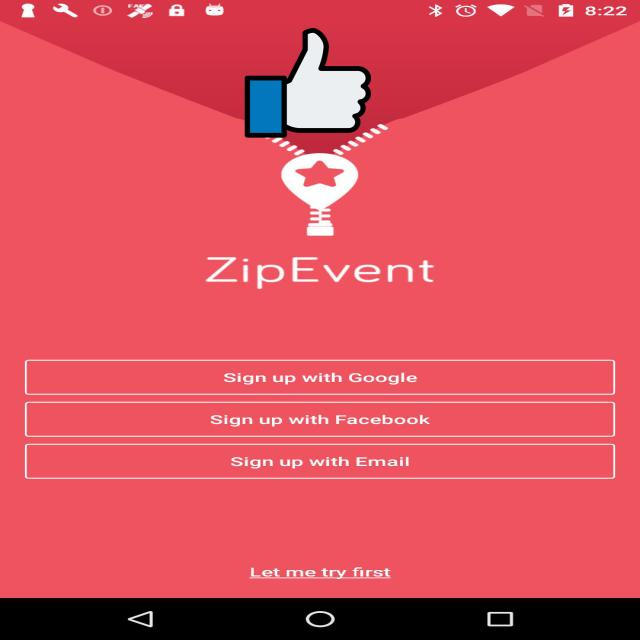privacy zuckering: (245, 26, 371, 140)
